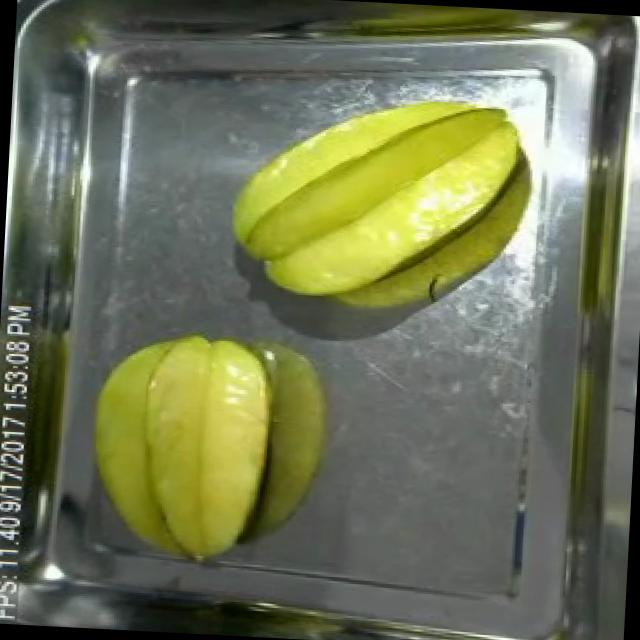fruit: (208, 80, 532, 327), (71, 316, 285, 576)
